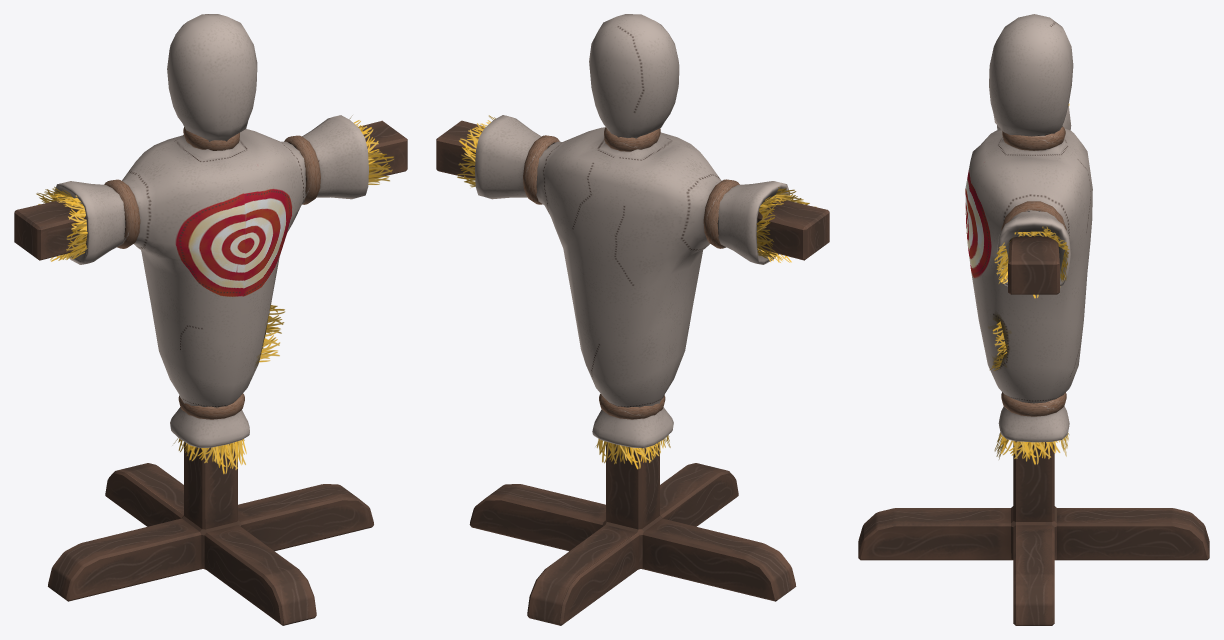
File: training_dummy.glb
The picture shows the model from 3 angles, left to right: view 1: azimuth 30°, elevation 25°; view 2: azimuth 150°, elevation 25°; view 3: azimuth 270°, elevation 25°; orthographic projection.
Parts seen in each view (by area): view 1: pTorus6, pPlane3 (×2); view 2: pTorus6; view 3: pTorus6, pPlane6.
Part boxes in pixels (x1,y1,x2,y2): pTorus6: (14,14,407,625); pPlane3 (×2): (213,151,393,474); pTorus6: (436,14,829,625); pTorus6: (858,14,1209,625); pPlane6: (1020,440,1060,464).
Size of the model in its own units: 10.3 by 14.36 by 8.57.
2 materials, 2 textured.
